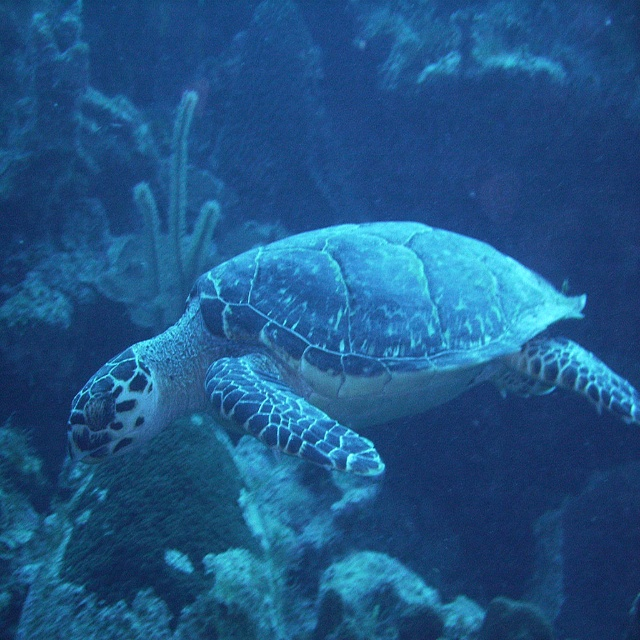Sea turtle: (68, 215, 640, 572)
